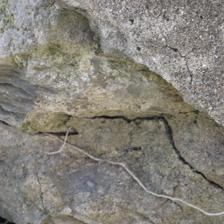Crack: (161, 120, 220, 191), (90, 115, 179, 136)
